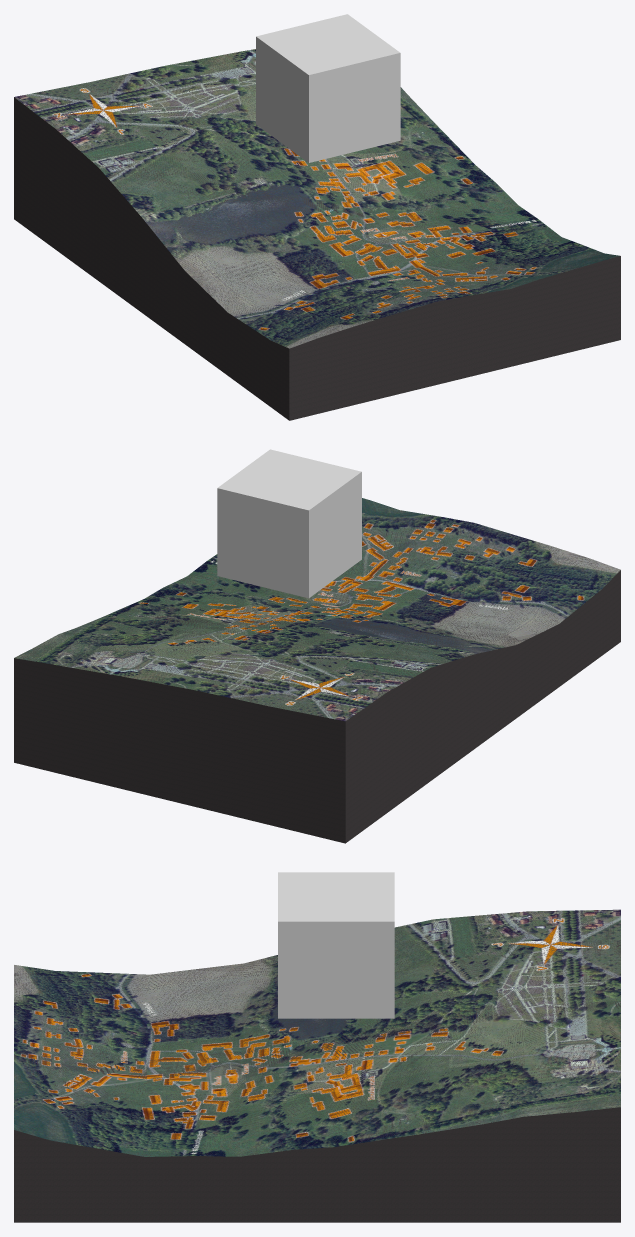
The picture shows the model from 3 angles, top to bottom: view 1: azimuth 30°, elevation 25°; view 2: azimuth 150°, elevation 25°; view 3: azimuth 270°, elevation 25°; orthographic projection. The views are drawn at different scales.
Visible parts, largest first — view 1: top, bottom, Cube; view 2: bottom, top, Cube; view 3: top, bottom, Cube.
Boxes of the visible parts, left/top/right/bottom form: top: left=14, top=49, right=619, bottom=348; bottom: left=14, top=97, right=620, bottom=420; Cube: left=256, top=14, right=400, bottom=162; bottom: left=14, top=570, right=620, bottom=843; top: left=14, top=498, right=620, bottom=721; Cube: left=217, top=449, right=361, bottom=598; top: left=14, top=909, right=620, bottom=1156; bottom: left=14, top=1107, right=620, bottom=1222; Cube: left=278, top=872, right=394, bottom=1018.
Bounding box in the file's own units: 0.4865 × 0.3141 × 0.7003.
Materials: 2 (2 with a texture image).
